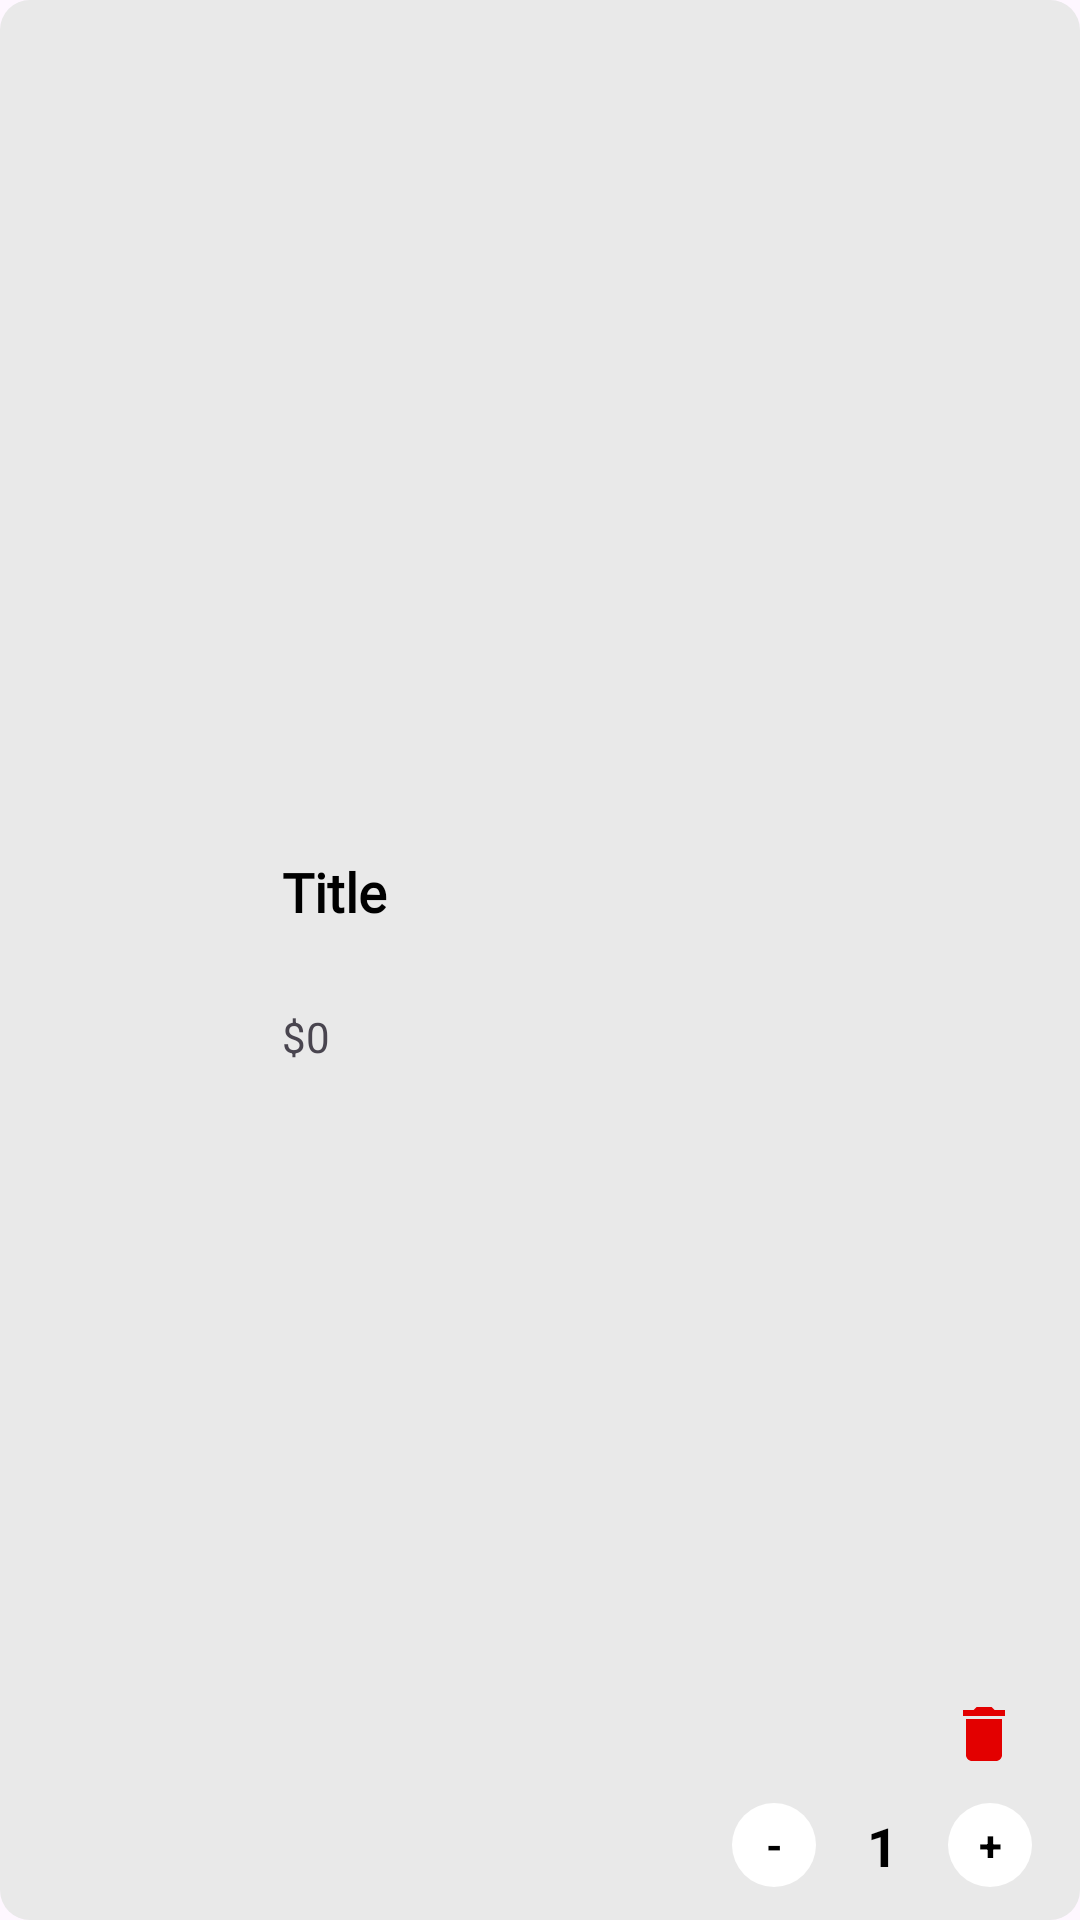

Locate icon controls on the screen. Image size 1080 × 1920, boxes as {"x1": x1, "y1": y1, "x2": x2, "y2": y2}.
delete: {"x1": 963, "y1": 1707, "x2": 1005, "y2": 1761}
